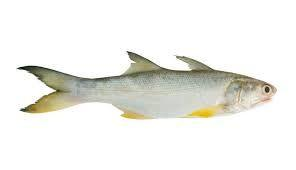Fourfinger Threadfish: (15, 51, 277, 126)
